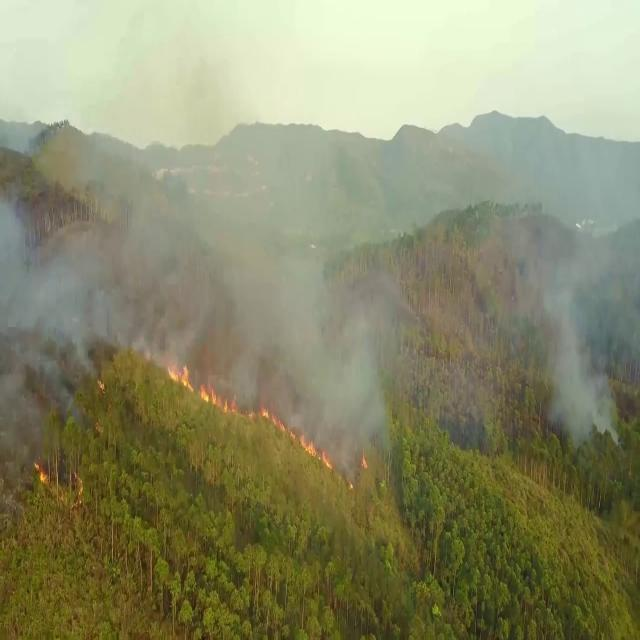Fire: (166, 362, 334, 472), (33, 460, 49, 486), (360, 448, 368, 471)
Smoke: (0, 114, 422, 468), (468, 209, 620, 451)
